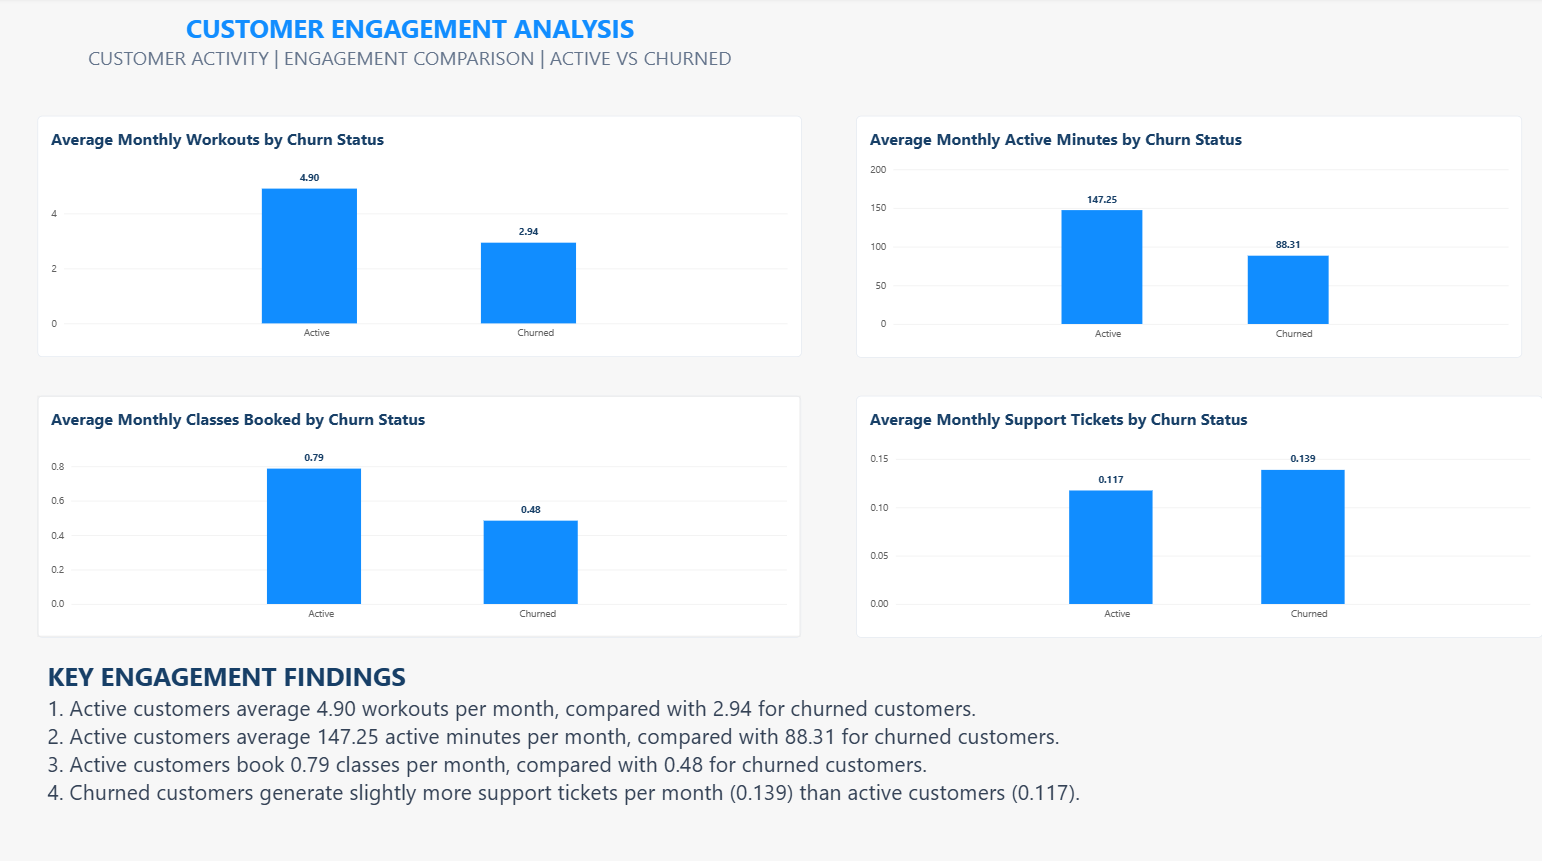

What the dashboard file says about the page in this screenshot:
{"tool":"powerbi","page":{"name":"Customer Engagement Analysis","canvas":[1920,1080],"ordinal":1},"visuals":[{"type":"clusteredColumnChart","title":"Average Monthly Workouts by Churn Status","fields":{"Category":["clean_subscriptions.Churn Status"],"Y":["clean_subscriptions.Average Customer Monthly Workouts"]},"box":[47,147.9,950,300],"z":0},{"type":"clusteredColumnChart","title":"Average Monthly Active Minutes by Churn Status","fields":{"Category":["clean_subscriptions.Churn Status"],"Y":["clean_subscriptions.Average Customer Monthly Active Minutes"]},"box":[1065.2,147.9,828.3,300.7],"z":1000},{"type":"clusteredColumnChart","title":"Average Monthly Classes Booked by Churn Status","fields":{"Category":["clean_subscriptions.Churn Status"],"Y":["clean_subscriptions.Average Customer Monthly Classes"]},"box":[47,495.6,949.3,300.7],"z":2000},{"type":"clusteredColumnChart","title":"Average Monthly Support Tickets by Churn Status","fields":{"Category":["clean_subscriptions.Churn Status"],"Y":["clean_subscriptions.Average Customer Monthly Support Tickets"]},"box":[1065.2,495.6,855.2,300.7],"z":3000},{"type":"textbox","box":[59.1,17.1,901.6,102.6],"z":4000},{"type":"textbox","box":[58.8,821.6,1801.1,258.7],"z":5000}]}

Visuals, with their boxes in screenshot pixels (x1, y1, x2, y2), scaled from the page's 1920x1080 canvas onto the 1542x861 screenshot:
"Average Monthly Workouts by Churn Status" clusteredColumnChart: (left=38, top=118, right=801, bottom=357)
"Average Monthly Active Minutes by Churn Status" clusteredColumnChart: (left=855, top=118, right=1521, bottom=358)
"Average Monthly Classes Booked by Churn Status" clusteredColumnChart: (left=38, top=395, right=800, bottom=635)
"Average Monthly Support Tickets by Churn Status" clusteredColumnChart: (left=855, top=395, right=1541, bottom=635)
textbox: (left=47, top=14, right=772, bottom=95)
textbox: (left=47, top=655, right=1494, bottom=860)
